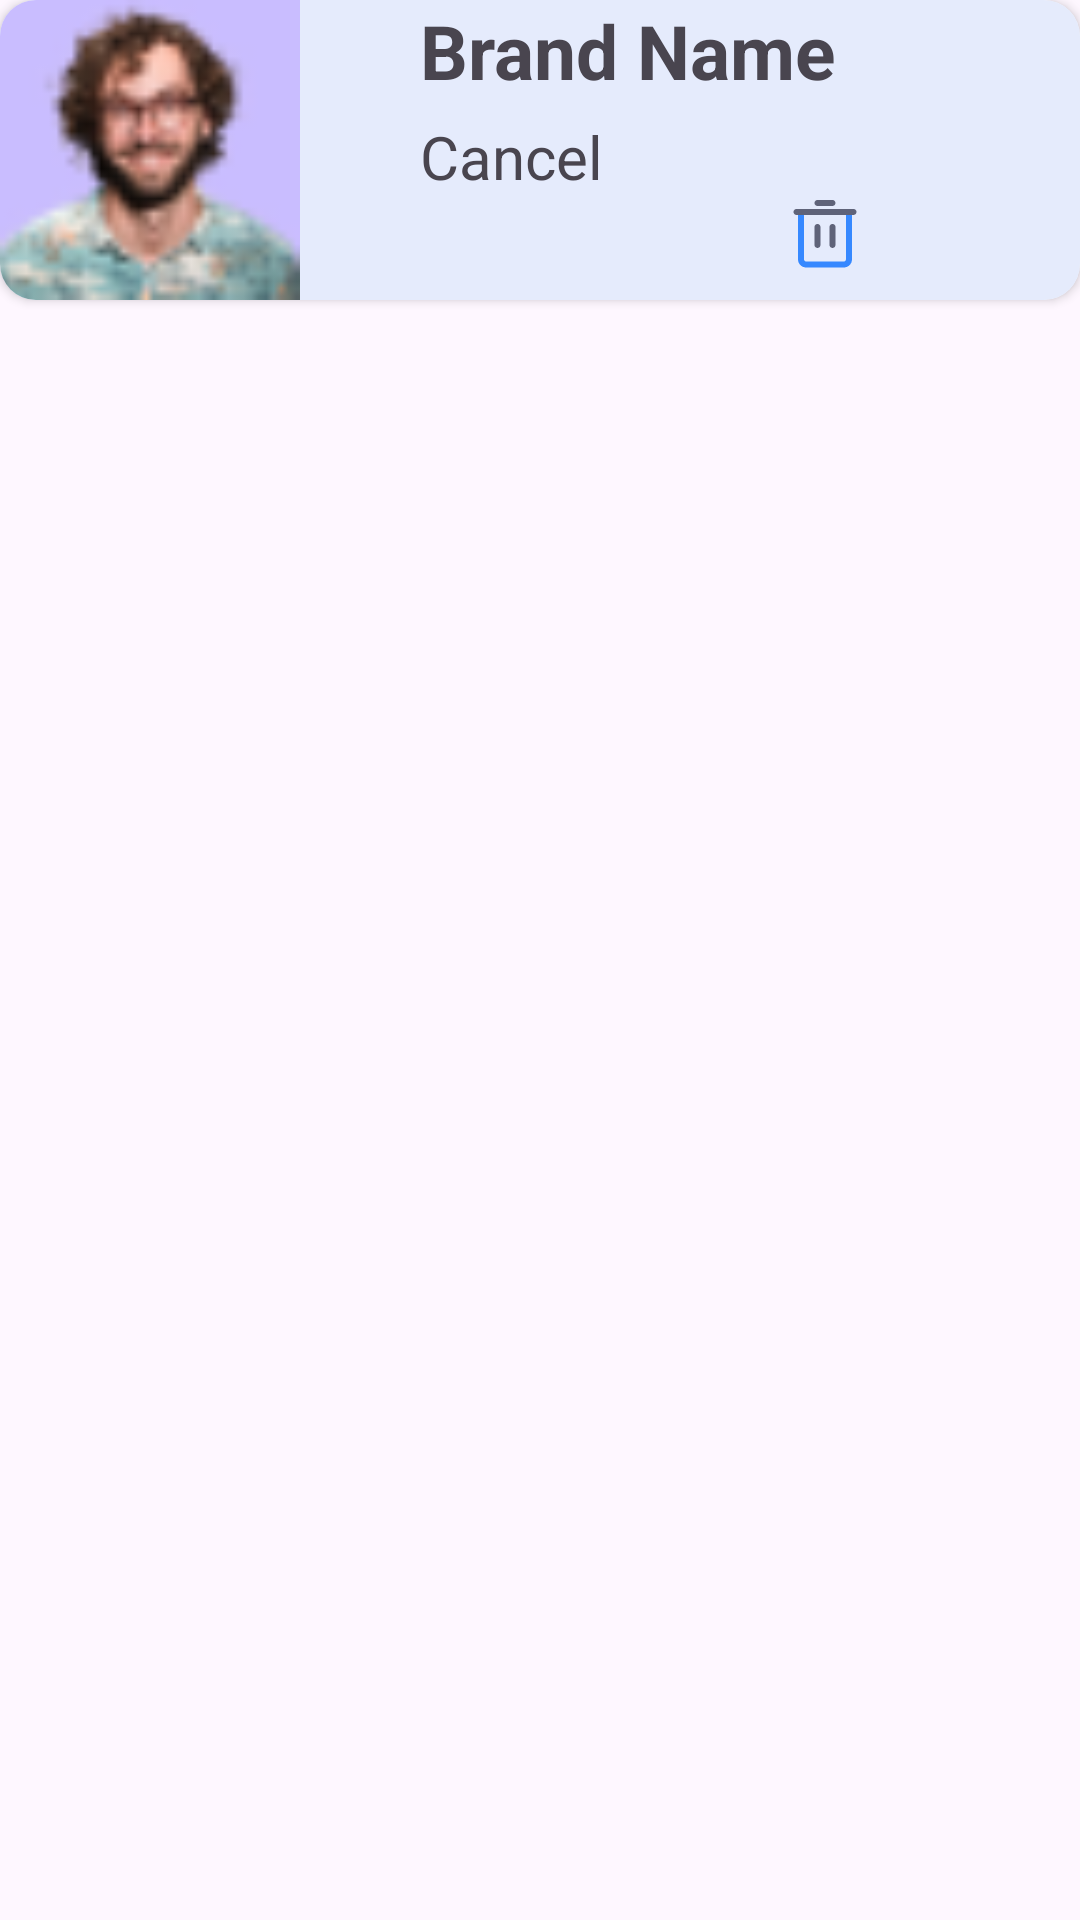

Named icons in this screenshot (1080 × 1920) and their bounding boxes, box(x1, y1, x2, y2):
delete: box(793, 200, 857, 268)
